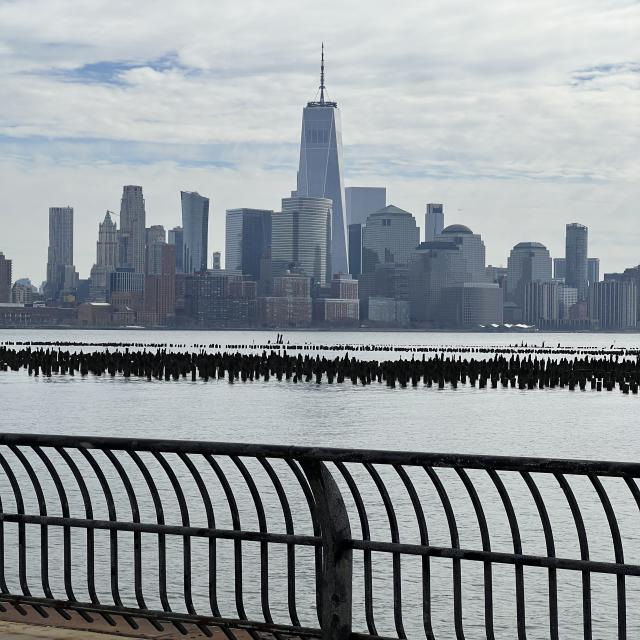WTC: (295, 44, 346, 202)
